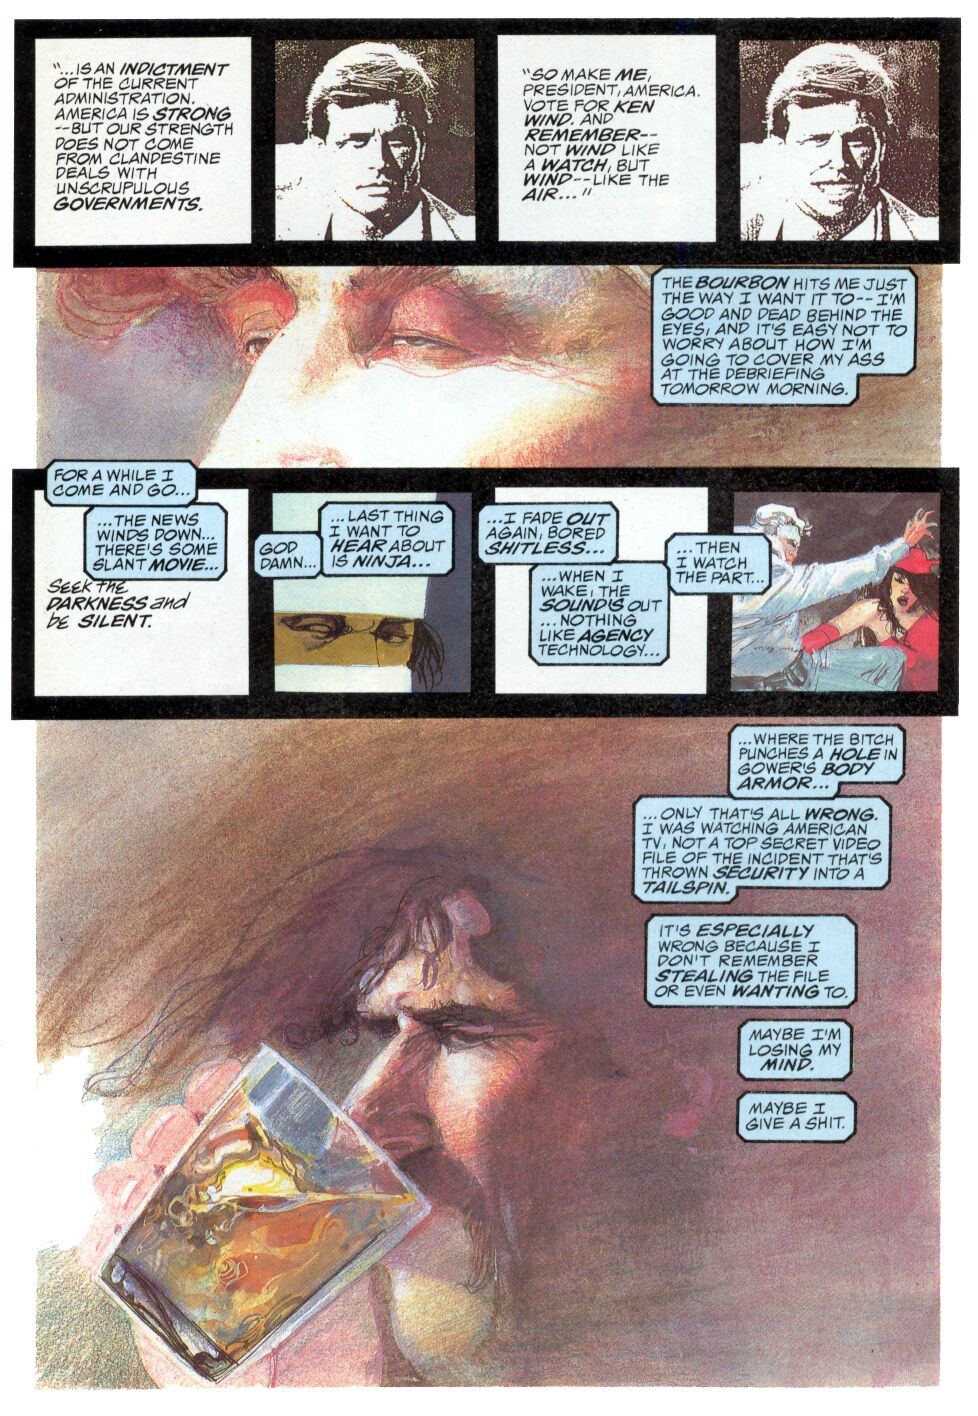Baloon: (494, 36, 715, 242), (36, 38, 251, 247), (651, 266, 915, 405), (637, 799, 890, 905), (648, 912, 855, 1005), (524, 562, 670, 671), (729, 721, 909, 801), (85, 505, 224, 577), (320, 502, 453, 575), (48, 581, 198, 634), (481, 501, 616, 560), (735, 1092, 864, 1147), (48, 458, 192, 505), (666, 529, 770, 592), (742, 1023, 851, 1079), (255, 536, 322, 581)
Vignetta: (36, 718, 944, 1388), (16, 455, 956, 716), (14, 22, 966, 266), (37, 266, 946, 466)
